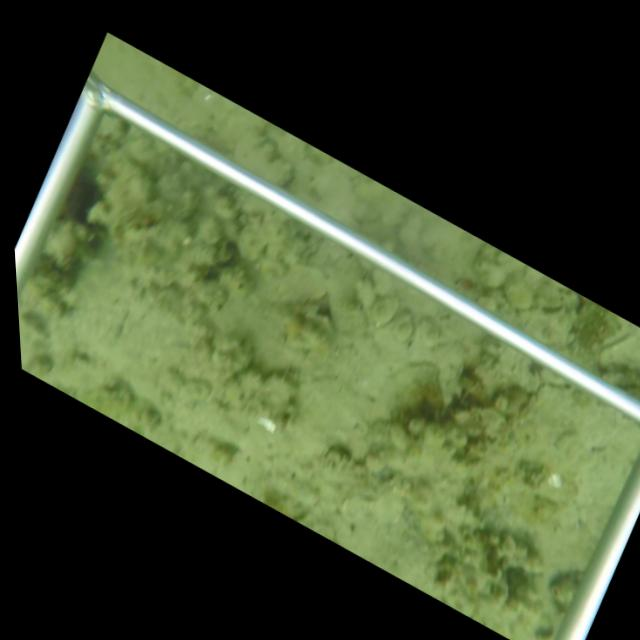Oyster-Indeterminate: (231, 123, 292, 189)
